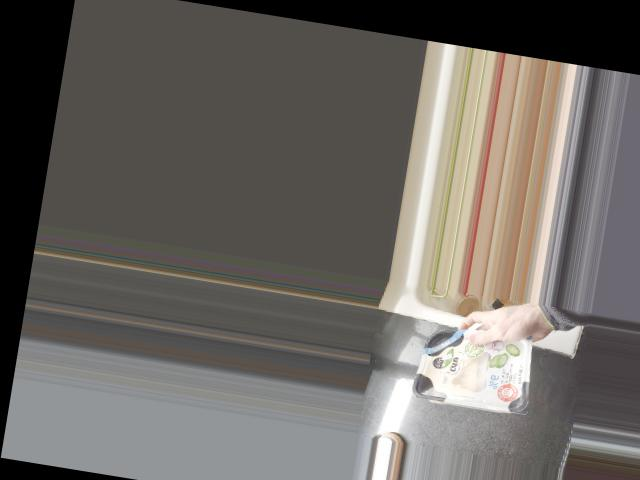cheese: (413, 313, 539, 415)
